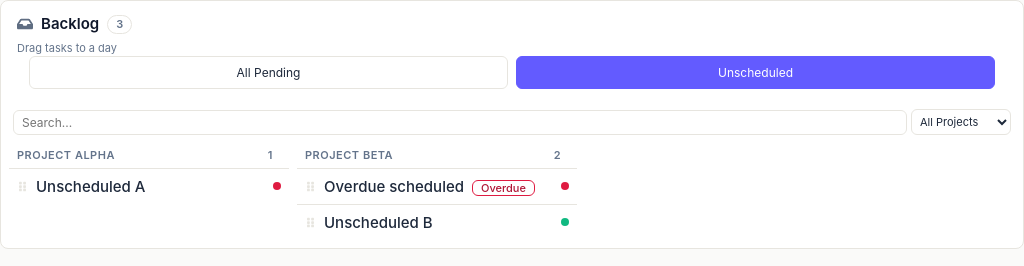
Test: BacklogSidebar › shows pending tasks in all-pending mode including overdue scheduled tasks
This screenshot has width=1024, height=266.
// Switch to all-pending mode (default is now unscheduled)
Click the button "All Pending" at point(268, 72), box [29,56,508,89]
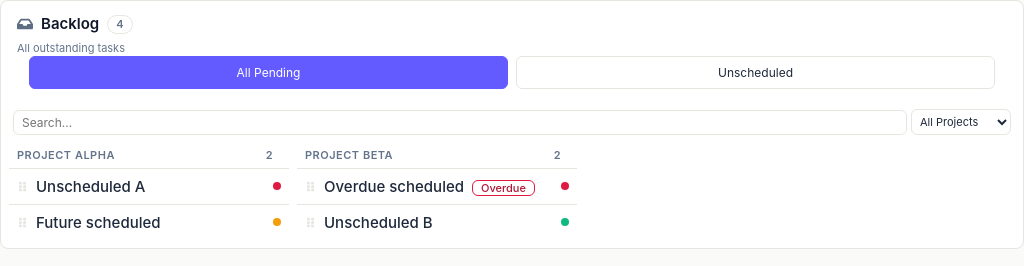
Check: the button "Unscheduled A" is shown, box [36,176,265,196]
Check: the button "Future scheduled" is shown, box [36,212,265,232]
